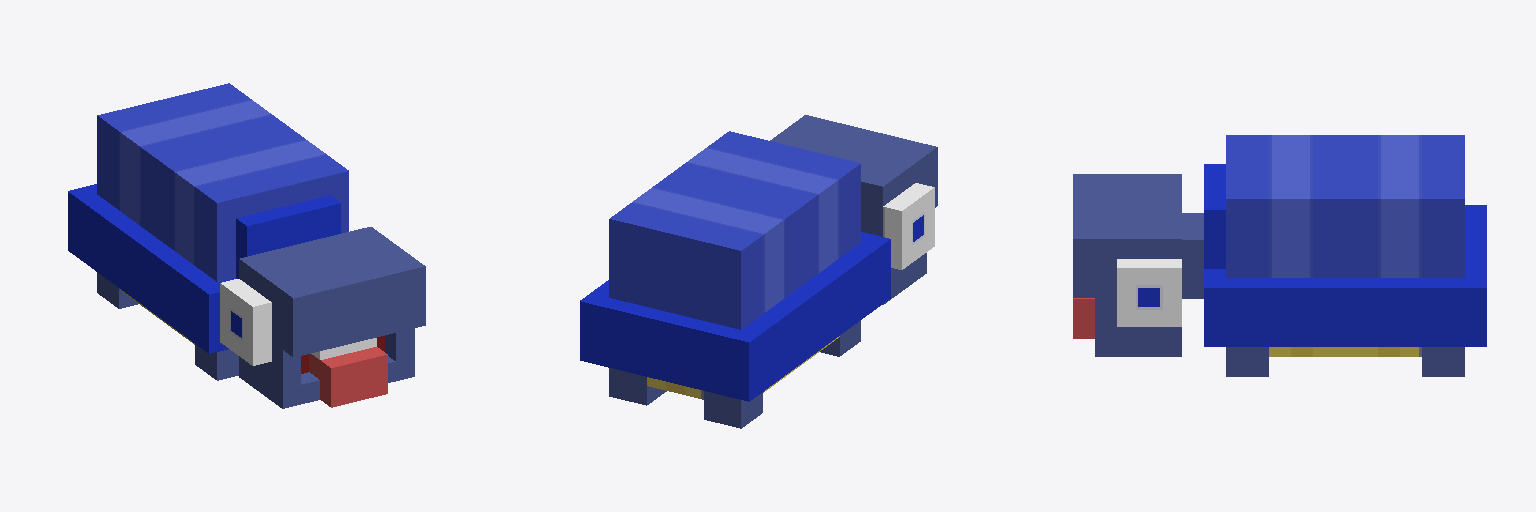
3 renders of one model, left to right at view 1: azimuth 30°, elevation 25°; view 2: azimuth 150°, elevation 25°; view 3: azimuth 270°, elevation 25°, orthographic.
Parts seen in each view (by area): view 1: Tortoise; view 2: Tortoise; view 3: Tortoise.
Part boxes in pixels (x1,y1,x2,y2): Tortoise: (68, 83, 425, 408); Tortoise: (580, 115, 937, 428); Tortoise: (1073, 135, 1486, 376).
Size of the model in its own units: 0.405 by 0.405 by 0.855.
Materials: 1 (1 with a texture image).